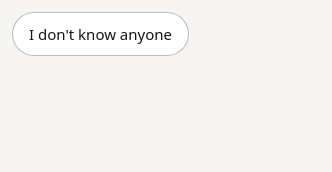
Test: Chip › exposes its pressed state
The width and height of the screenshot is (332, 172).
Click the button "I don't know anyone". click: (100, 34)
box: left=12, top=12, right=189, bottom=56
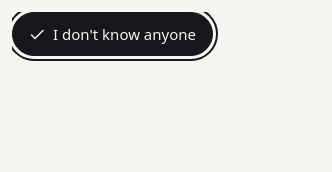
Expected: the button "I don't know anyone" is pressed, left=12, top=12, right=213, bottom=56
